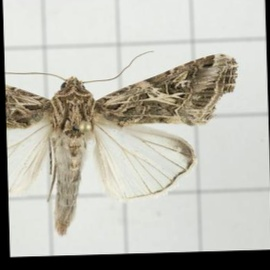Spodoptera litura: (7, 51, 241, 236)
